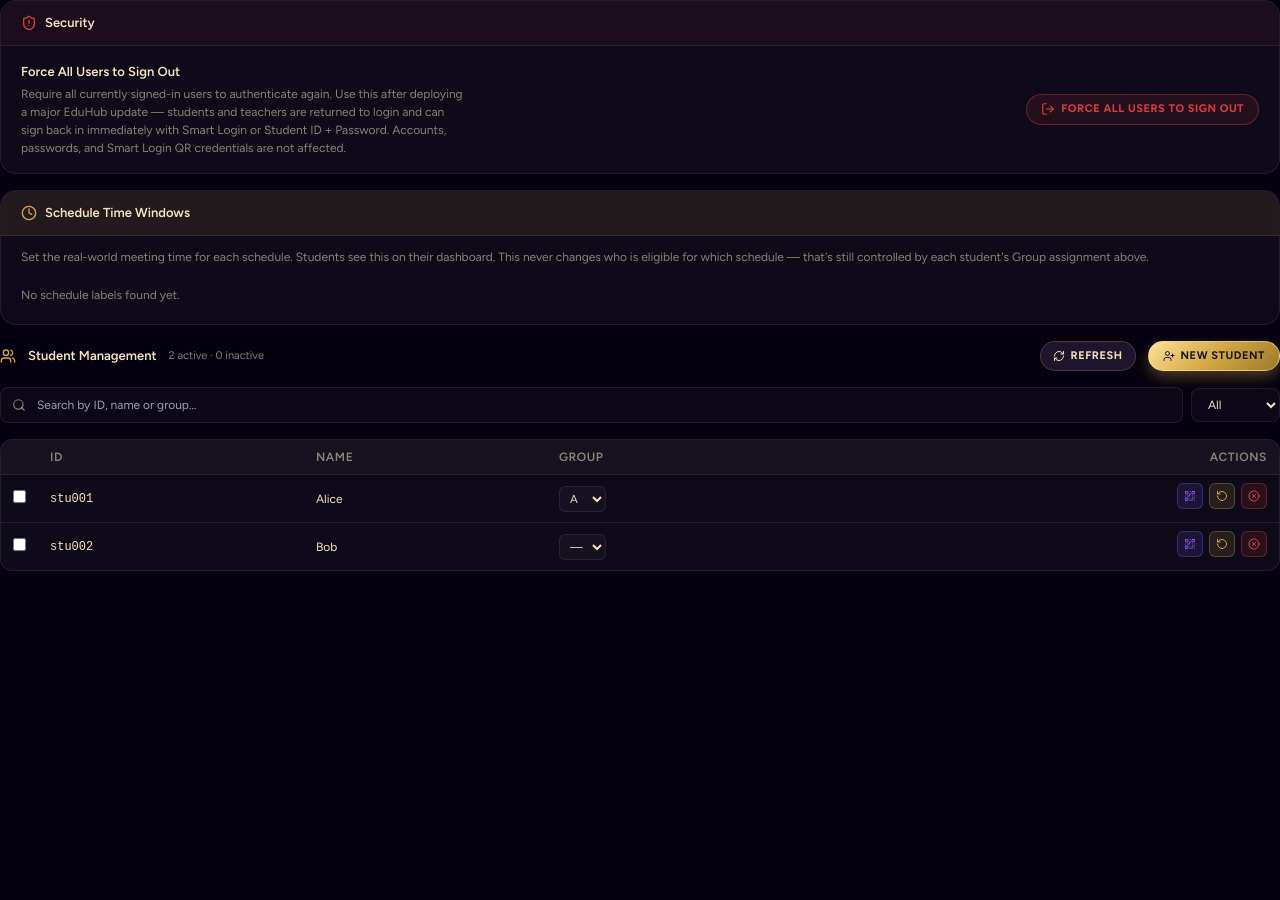
StudentManager — Schedule A/B assignment (item 1) › bulk result summary reports blocked students by clean_id, never silently drops them
Step 1. Click the checkbox with test id "student-select-stu001" → (20, 496), box [13,490,26,502]
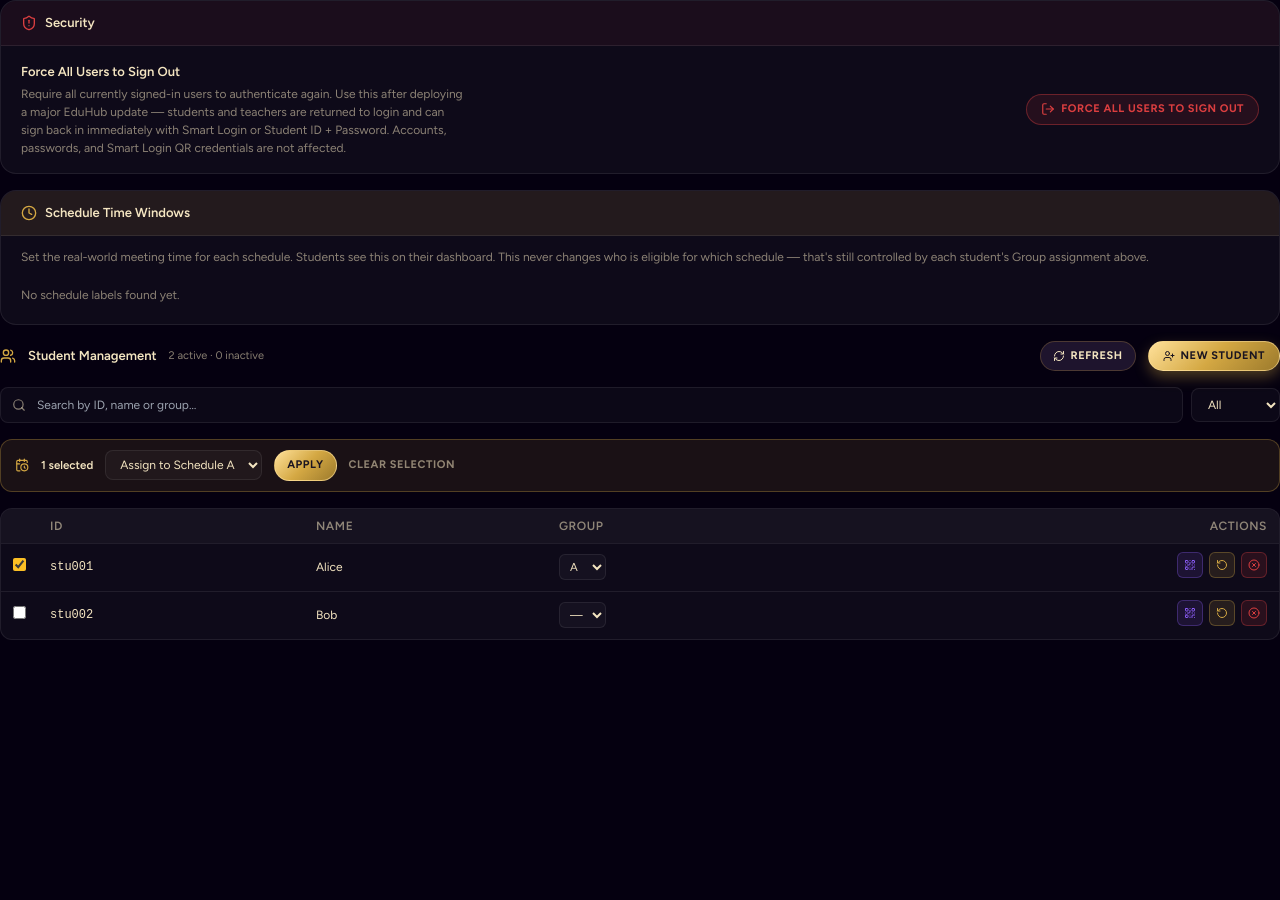
Step 2. Click the checkbox with test id "student-select-stu002" → (20, 612), box [13,606,26,619]
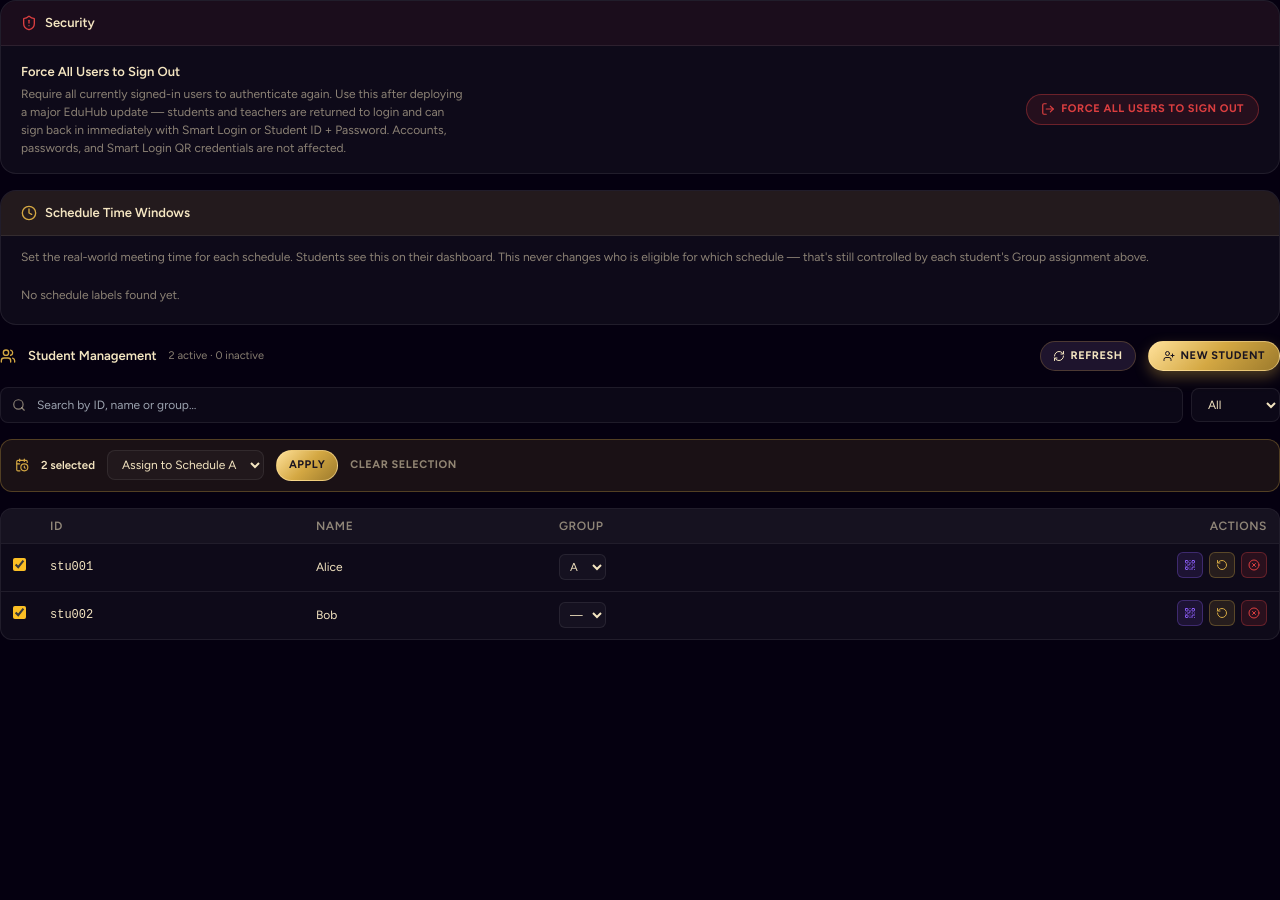
Step 3. Click the button with test id "student-bulk-schedule-apply" → (307, 465), box [276,450,338,480]
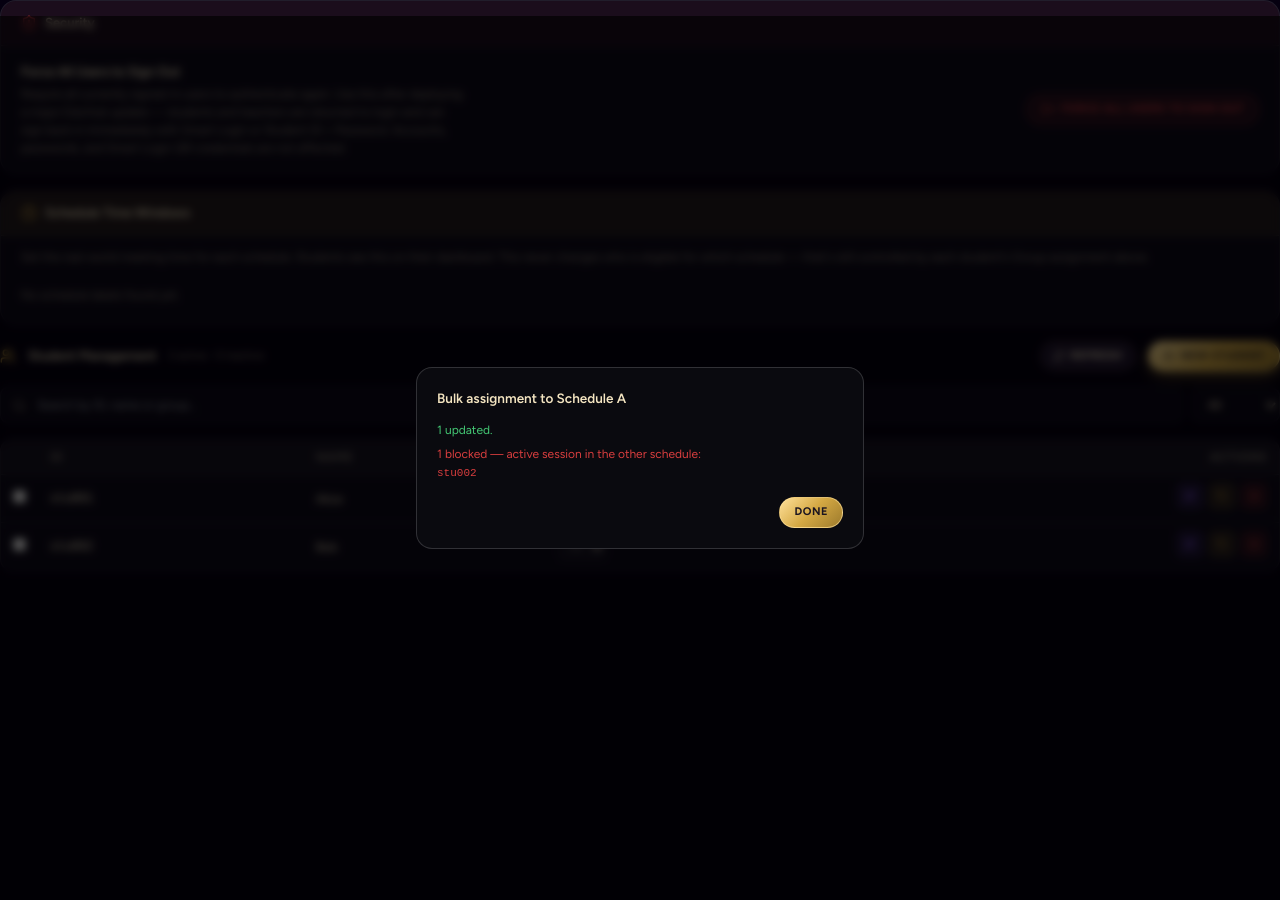
Result: the text "1 blocked — active session in the other schedule:" is shown at [437,447,701,461]
Result: the text "stu002" is shown at [437,467,477,479]
